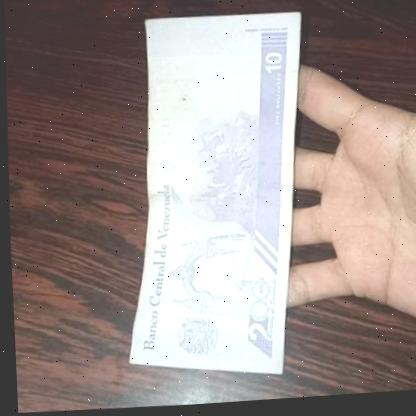vef_back: (114, 12, 313, 390)
